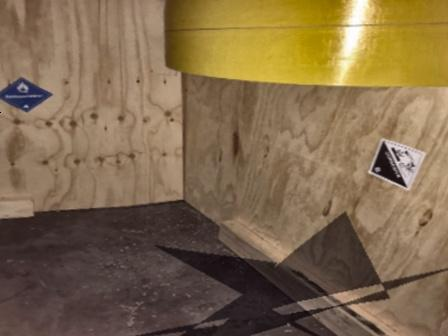corrosive: (365, 137, 427, 191)
dangerous-when-wet: (1, 77, 57, 113)
